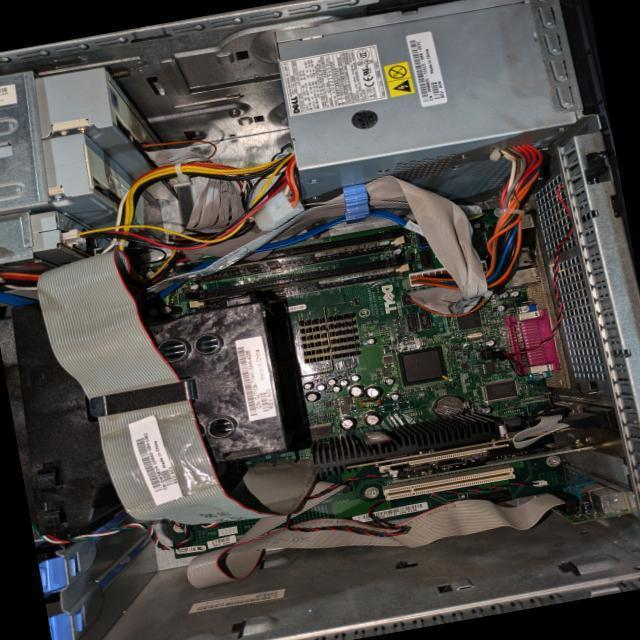Mainboard: (125, 206, 575, 556)
PSU: (272, 0, 587, 231)
RAM: (196, 263, 402, 308), (202, 236, 396, 279)
